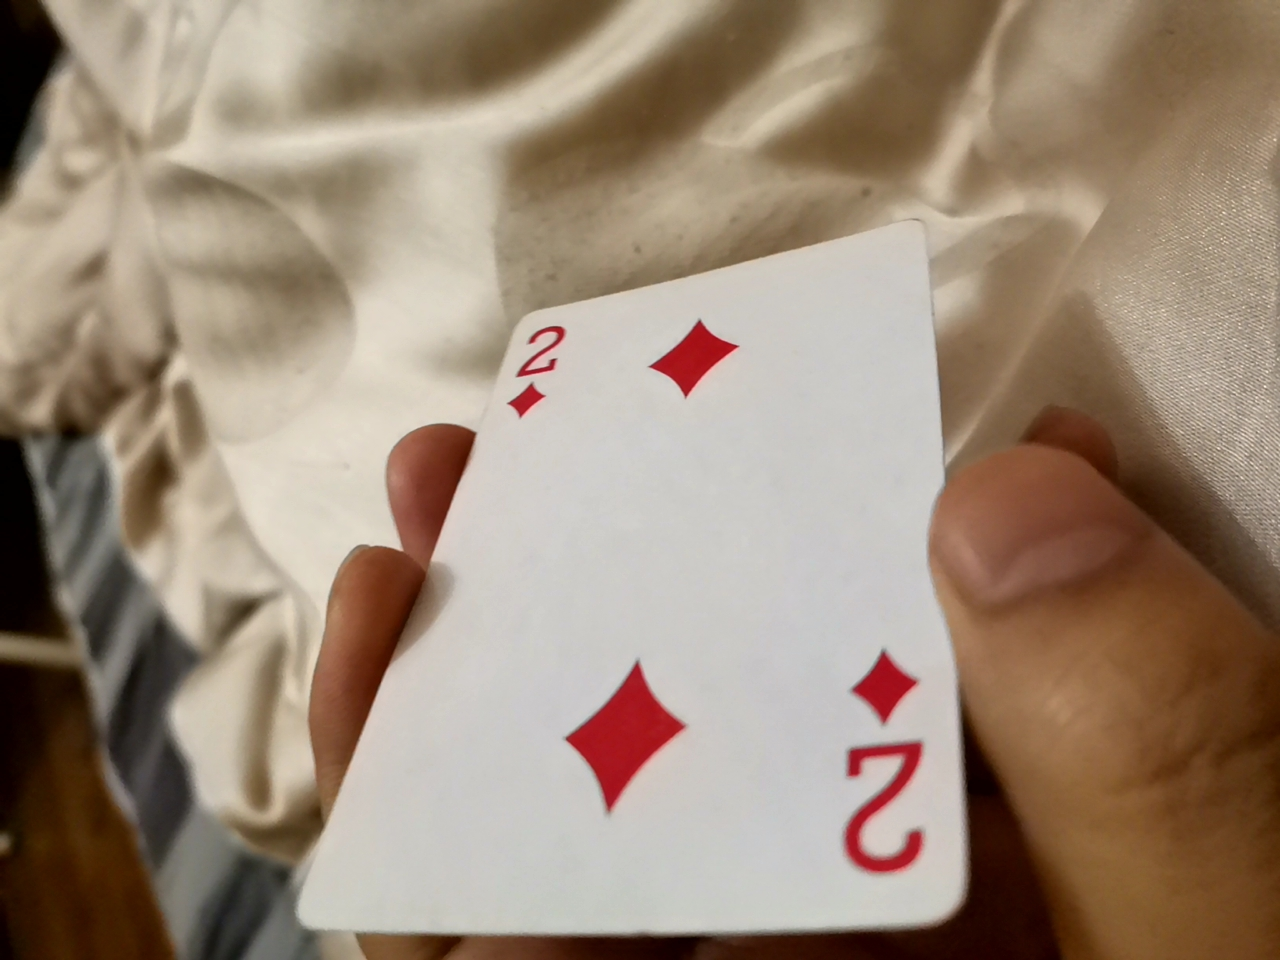fk 2: (268, 218, 952, 949)
